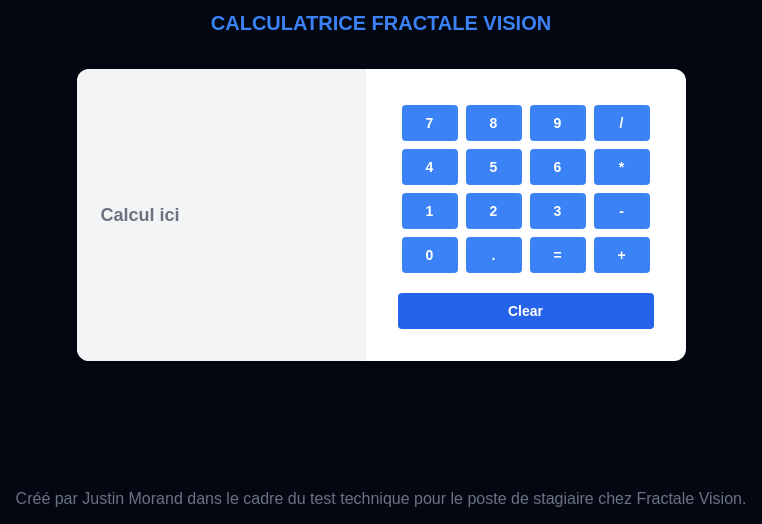
Composant Home - Calculatrice Fractale Vision › met à jour l'entrée lorsque l'on appuie sur les boutons
Click the button "1".
click(430, 211)  # box [402, 193, 458, 229]
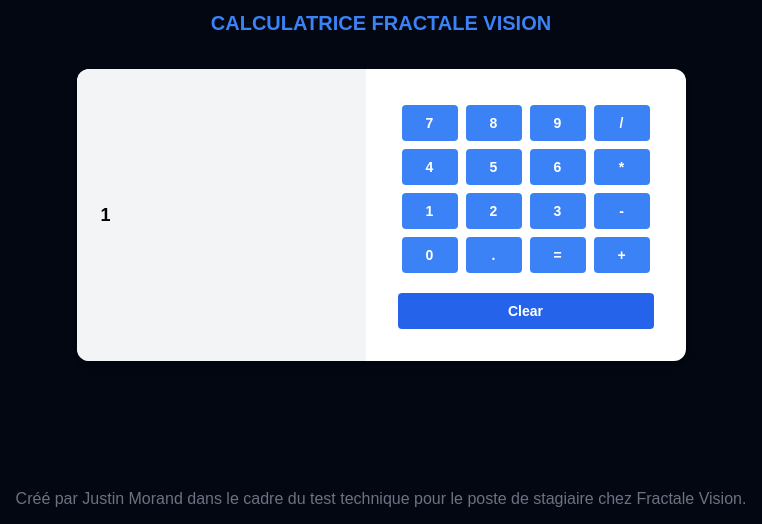
Click the button "2".
click(494, 211)  # box [466, 193, 522, 229]
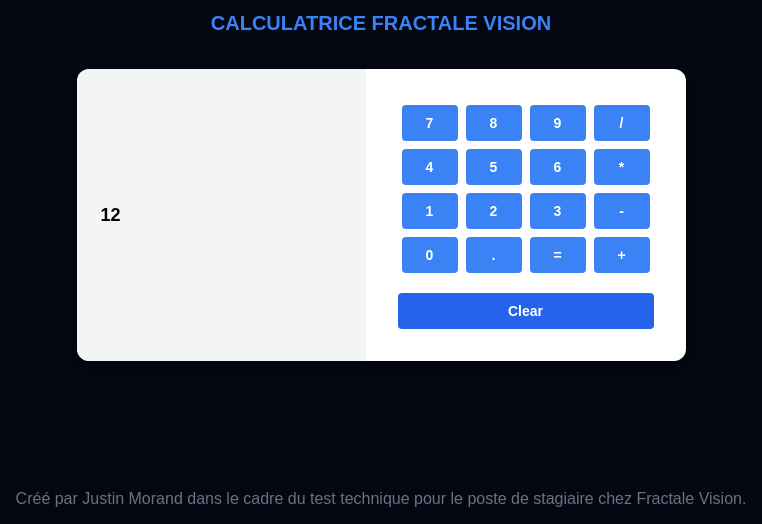
Expected: the field with placeholder "Calcul ici" holds "12", [76, 69, 366, 361]
